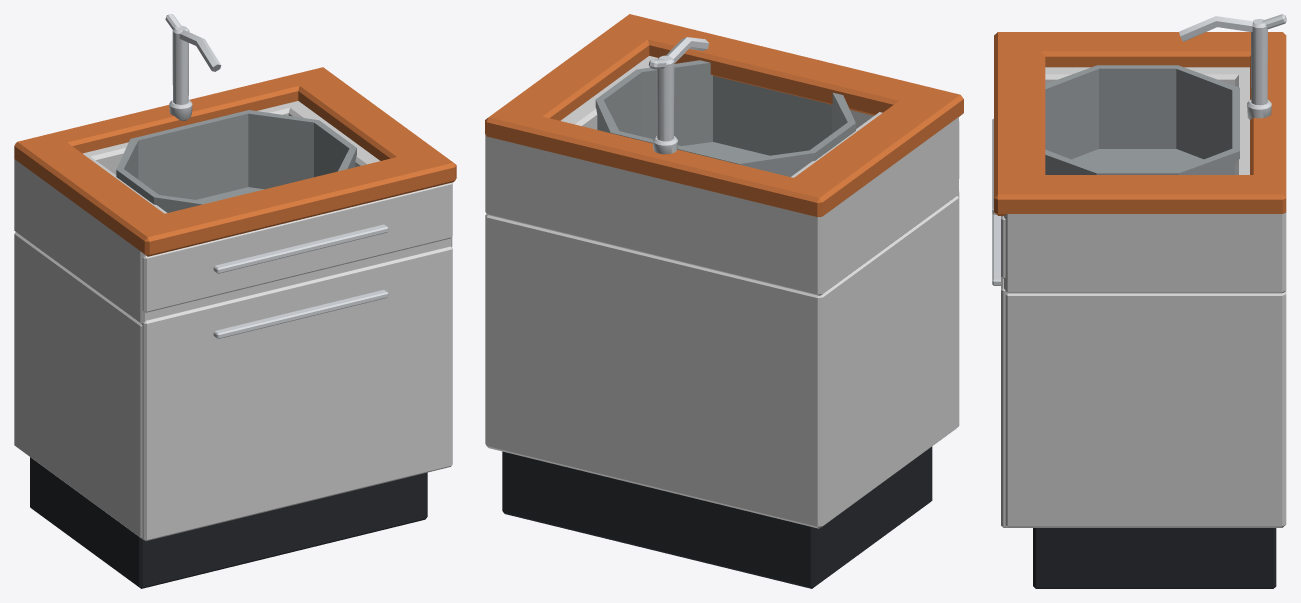
File: kitchen-base-sink-800.glb
3 renders of one model, left to right at view 1: azimuth 30°, elevation 25°; view 2: azimuth 150°, elevation 25°; view 3: azimuth 270°, elevation 25°, orthographic. The views are drawn at different scales.
Parts seen in each view (by area): view 1: kitchen-base-sink-800.tint, kitchen-base-sink-800.accent, kitchen-base-sink-800.graphite, kitchen-base-sink-800.metal, kitchen-base-sink-800.chrome; view 2: kitchen-base-sink-800.tint, kitchen-base-sink-800.accent, kitchen-base-sink-800.graphite, kitchen-base-sink-800.metal, kitchen-base-sink-800.chrome; view 3: kitchen-base-sink-800.tint, kitchen-base-sink-800.accent, kitchen-base-sink-800.metal, kitchen-base-sink-800.graphite, kitchen-base-sink-800.chrome.
Boxes of the visible parts, <box> form: kitchen-base-sink-800.tint: <box>14,101,452,540</box>; kitchen-base-sink-800.accent: <box>14,67,456,256</box>; kitchen-base-sink-800.graphite: <box>30,457,427,588</box>; kitchen-base-sink-800.metal: <box>116,110,356,212</box>; kitchen-base-sink-800.chrome: <box>165,14,388,338</box>; kitchen-base-sink-800.tint: <box>485,56,959,528</box>; kitchen-base-sink-800.accent: <box>485,14,963,217</box>; kitchen-base-sink-800.graphite: <box>502,446,932,588</box>; kitchen-base-sink-800.metal: <box>595,60,855,176</box>; kitchen-base-sink-800.chrome: <box>648,37,709,154</box>; kitchen-base-sink-800.tint: <box>1001,67,1286,527</box>; kitchen-base-sink-800.accent: <box>994,32,1286,215</box>; kitchen-base-sink-800.metal: <box>1045,65,1239,174</box>; kitchen-base-sink-800.graphite: <box>1033,528,1276,588</box>; kitchen-base-sink-800.chrome: <box>992,14,1286,285</box>.
Size of the model in its own units: 0.8 by 1.12 by 0.6.
